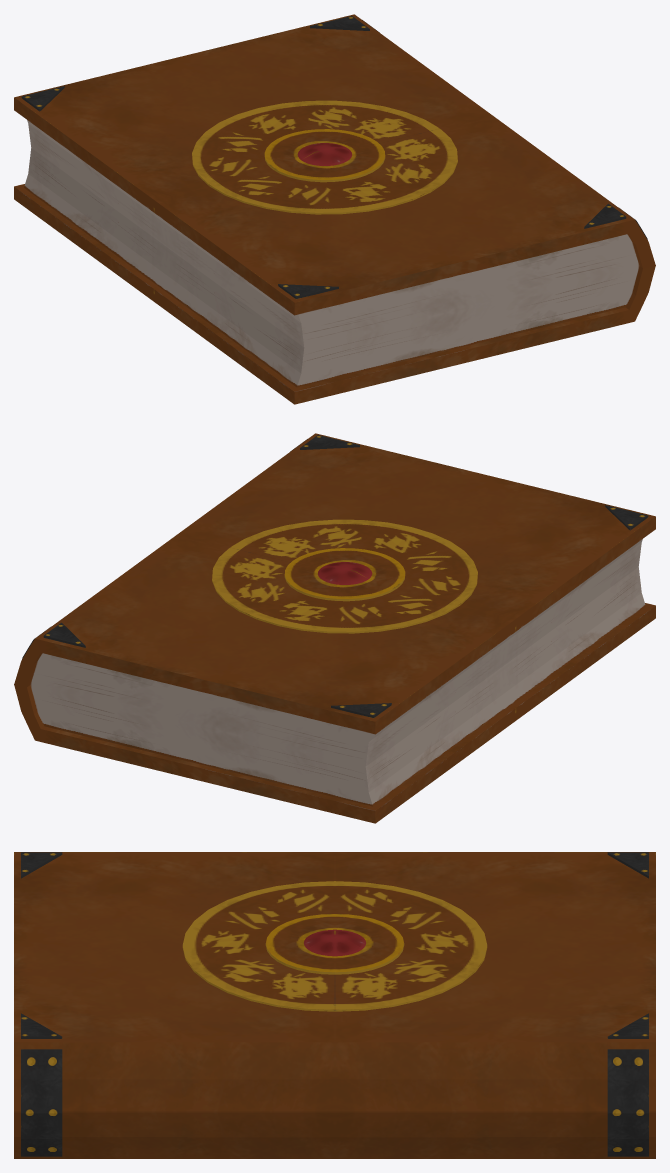
Rendered from Book.glb.
3 views of the same model, one above another, from view 1: azimuth 30°, elevation 25°; view 2: azimuth 150°, elevation 25°; view 3: azimuth 270°, elevation 25° (orthographic). The views are drawn at different scales.
Parts seen in each view (by area): view 1: Cube; view 2: Cube; view 3: Cube.
Boxes of the visible parts, x1,y1,x2,y2 form: Cube: [14, 14, 655, 404]; Cube: [14, 433, 655, 823]; Cube: [14, 852, 655, 1158].
Bounding box in the file's own units: 1.5 × 0.4741 × 2.
1 material, 1 textured.
